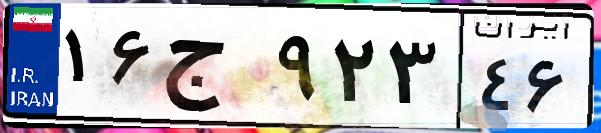1: (57, 26, 110, 100)
2: (330, 28, 385, 110)
3: (385, 28, 445, 110)
4: (475, 38, 525, 113)
6: (525, 38, 570, 115), (110, 28, 158, 98)
9: (270, 28, 330, 110)
ج: (158, 20, 270, 120)
